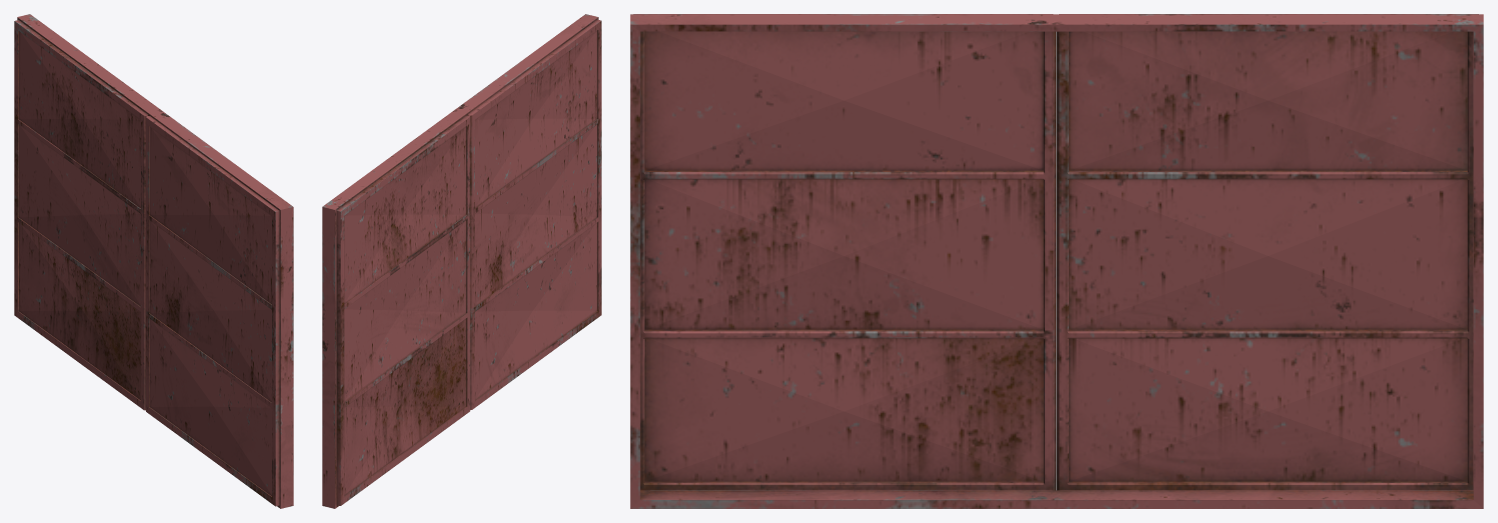
The picture shows the model from 3 angles, left to right: view 1: azimuth 30°, elevation 25°; view 2: azimuth 150°, elevation 25°; view 3: azimuth 270°, elevation 25°; orthographic projection. The views are drawn at different scales.
Visible parts, largest first — view 1: wing_2, wing_1, gate_1; view 2: wing_1, wing_2, gate_1; view 3: wing_1, wing_2, gate_1.
Part boxes in pixels (bbox=[...]): wing_2: bbox=[146, 116, 279, 506]; wing_1: bbox=[14, 20, 148, 410]; gate_1: bbox=[17, 14, 293, 508]; wing_1: bbox=[336, 115, 470, 505]; wing_2: bbox=[468, 19, 601, 409]; gate_1: bbox=[322, 14, 598, 508]; wing_1: bbox=[1056, 14, 1478, 490]; wing_2: bbox=[633, 14, 1055, 490]; gate_1: bbox=[630, 14, 1483, 508].
Bounding box in the file's own units: 0.1994 × 3.35 × 5.35.
1 material, 1 textured.
